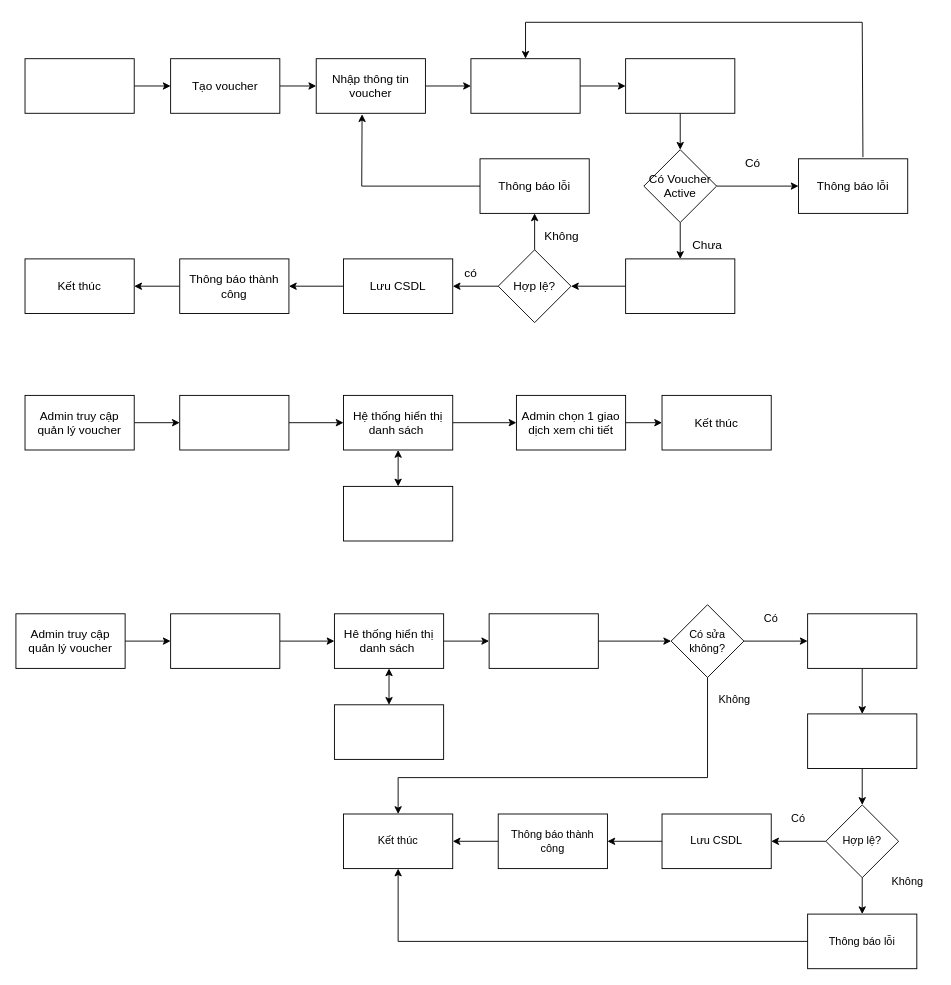
The diagram is 951 pixels wide and 985 high, and some of its shapes have lost their labels. Each missing label, with the centre of its shape:
Admin lọc theo tên voucher, hôi viên, chi nhánh: [398,513]
Admin truy cập mục quản lý voucher: [79,85]
Cập nhật thông tin/ Trạng thái: [862,640]
Danh sách Voucher: [225,640]
Hệ thống kiểm tra dũ liệu: [680,285]
Hệ thống kiểm tra dữ liệu: [862,740]
Kiểm tra gói tập có voucer đang hoạt động không: [680,85]
Lịch sử áp dụng: [234,422]
Lựa chọn gói tập áp dụng Voucher: [525,85]
Tìm kiếm theo tên: [389,731]
Xem chi tiết: [543,640]
